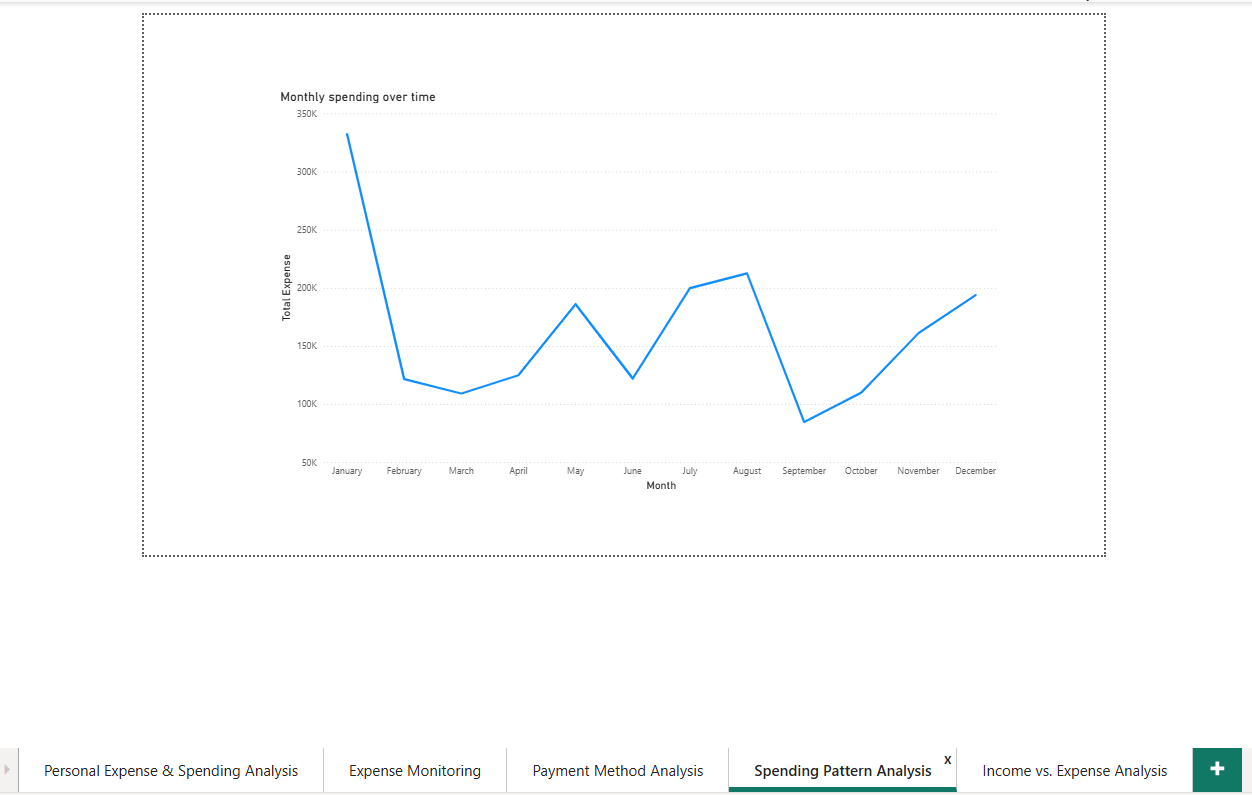

The dashboard page shown, as its layout file describes it:
{"tool":"powerbi","page":{"name":"Spending Pattern Analysis","canvas":[1280,720],"ordinal":3},"visuals":[{"type":"lineChart","title":"Monthly spending over time","fields":{"Category":["Daily Household Transactions.Month-Year.Variation.Date Hierarchy.Month"],"Y":["Daily Household Transactions.Total Expense"]},"box":[177,98.8,968.8,542],"z":0}]}

Visuals, with their boxes on the page's 1280x720 design canvas (x1, y1, x2, y2). These are canvas units, not pixel positions in the 1252x795 screenshot, which may show the page scaled, cropped or inside an application window:
"Monthly spending over time" lineChart: rect(177, 99, 1146, 641)
